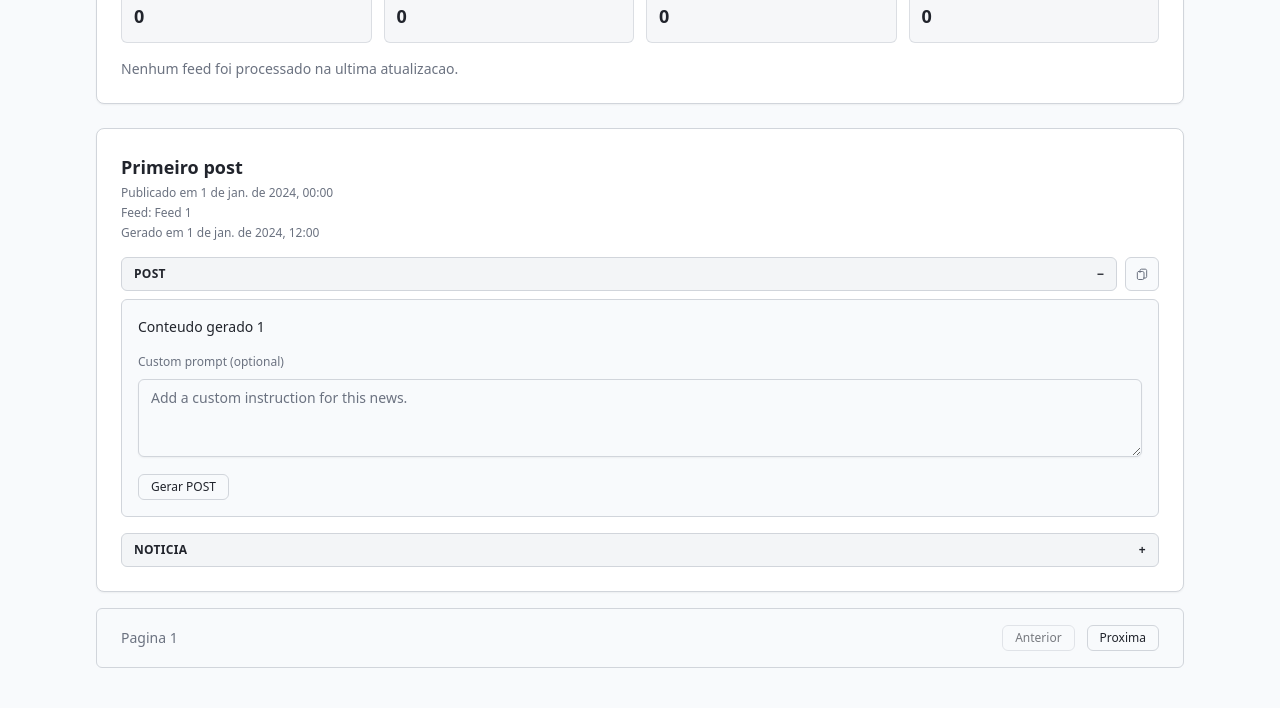
Test: PostsPage › supports pagination keeping the cursor state
(page scrolled)
Expected: the heading "Primeiro post" is shown, 121,155 -> 243,179
Expected: the text "Pagina 1" is shown, 121,628 -> 178,648
Click the button "Proxima" at (1123, 638), box 1087,625 -> 1159,651
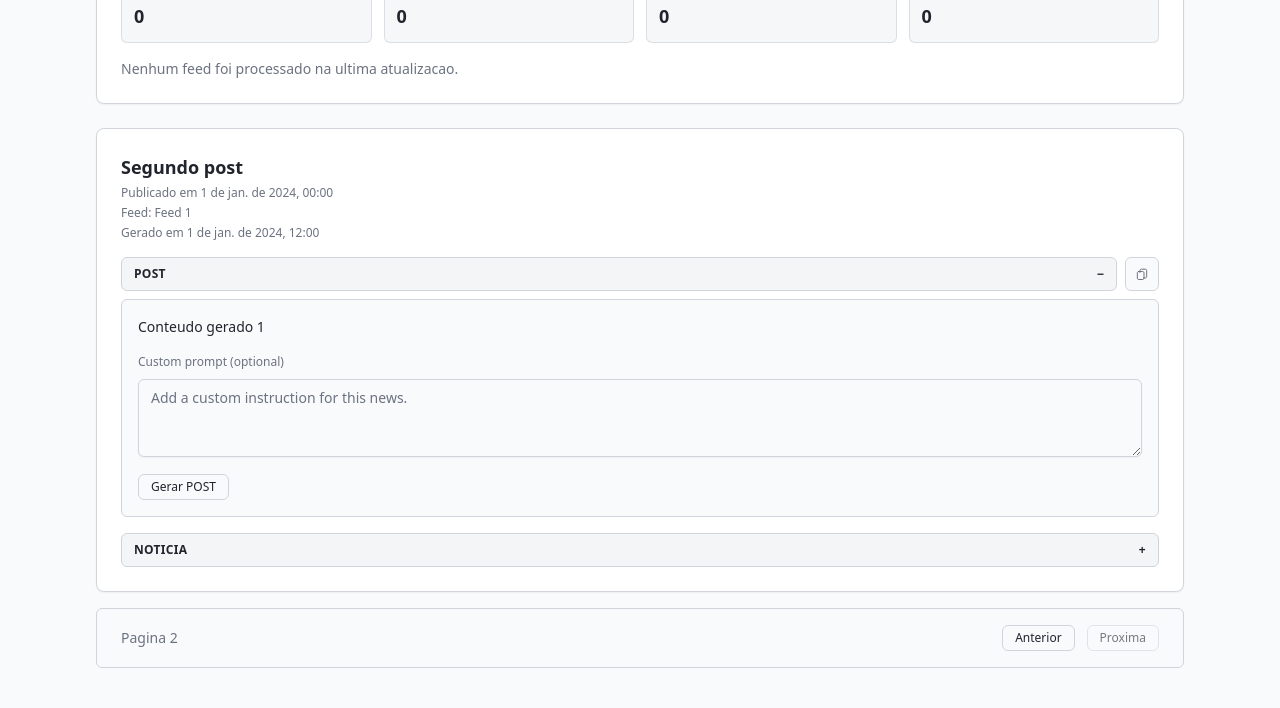
Expected: the heading "Segundo post" is shown, 121,155 -> 243,179
Expected: the text "Pagina 2" is shown, 121,628 -> 178,648
Click the button "Anterior" at (1038, 638), box 1002,625 -> 1075,651
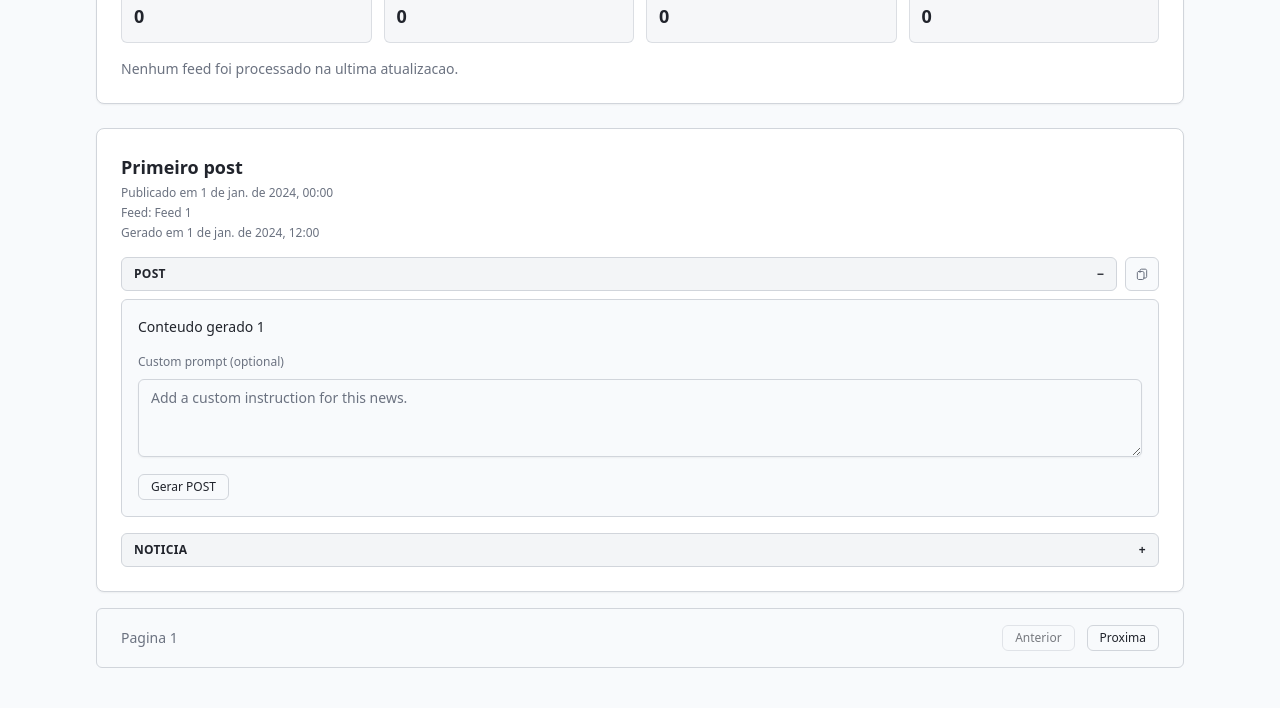
Expected: the heading "Primeiro post" is shown, 121,155 -> 243,179
Expected: the text "Pagina 1" is shown, 121,628 -> 178,648
